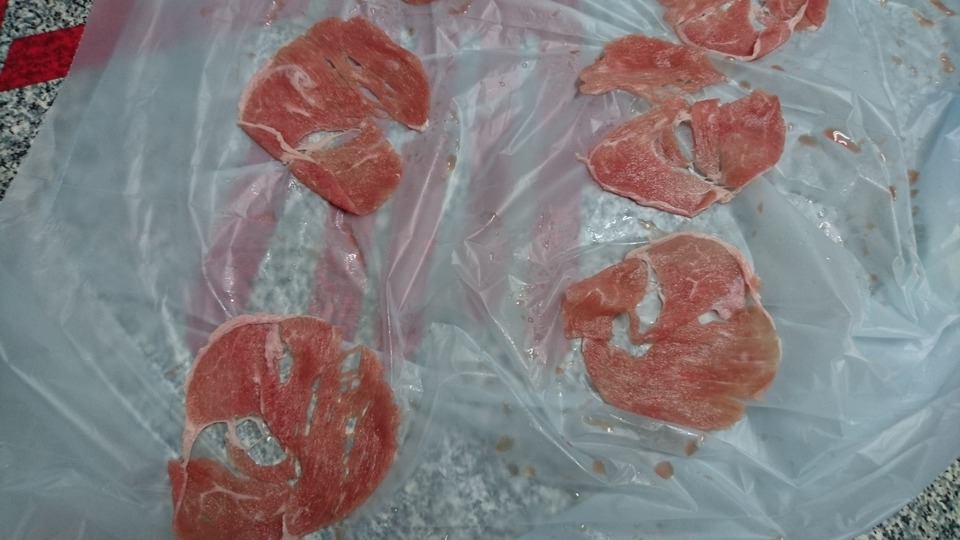restructured meat: (534, 221, 815, 438), (160, 306, 400, 535), (227, 23, 436, 222), (586, 35, 795, 221)
